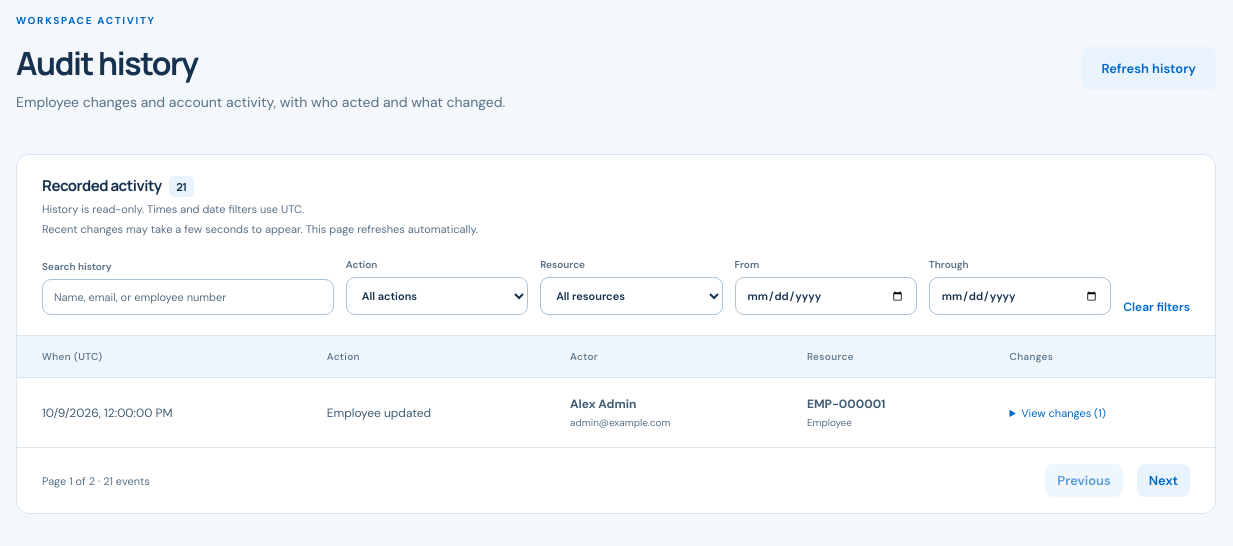
Test: managers see actors, resources, and readable before/after history without write controls
The width and height of the screenshot is (1233, 546).
expect the cell "Employee updated" is shown: met, box [302,378,545,447]
expect the text "Alex Admin" is shown: met, box [570,396,636,412]
Click the heading "View changes (1)": (1063, 413) [1021,406,1106,420]
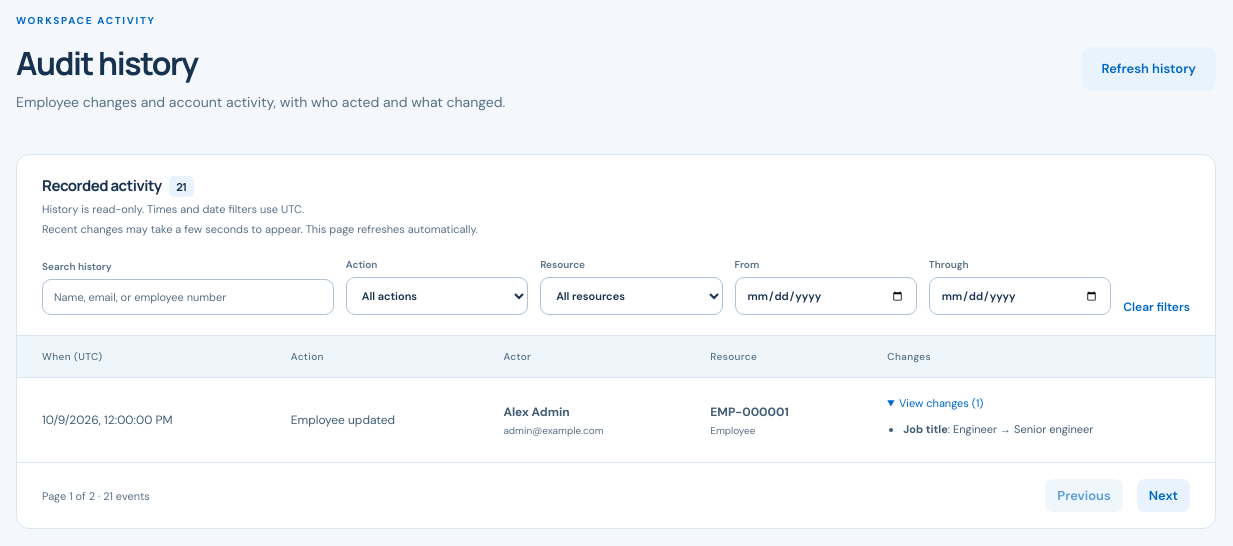
expect the list item "Job title" shows "Engineer → Senior engineer": met, box [903,422,1093,436]
